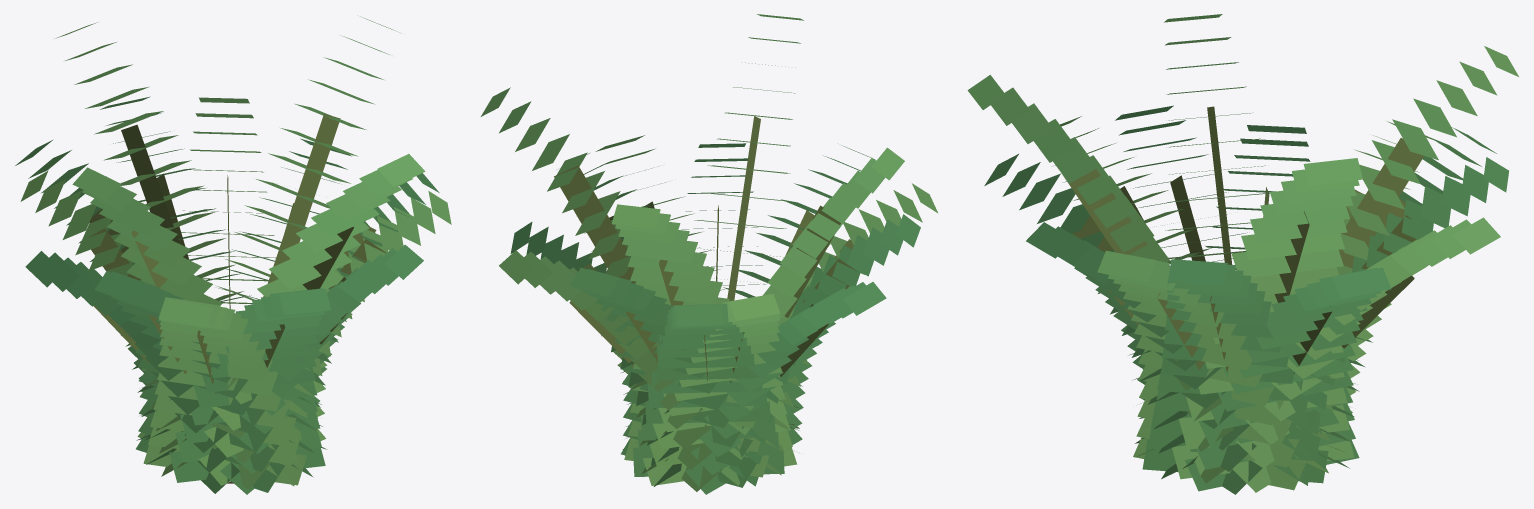
File: fern_plant_far.glb
3 views of the same model, side by side, from view 1: azimuth 30°, elevation 25°; view 2: azimuth 150°, elevation 25°; view 3: azimuth 270°, elevation 25° (orthographic). The views are drawn at different scales.
Parts seen in each view (by area): view 1: fern_plant; view 2: fern_plant; view 3: fern_plant.
Part boxes in pixels (<box>): fern_plant: <box>15,16,451,494</box>; fern_plant: <box>481,14,937,494</box>; fern_plant: <box>967,14,1518,494</box>.
Bounding box in the file's own units: 0.8931 × 0.8568 × 1.02.
